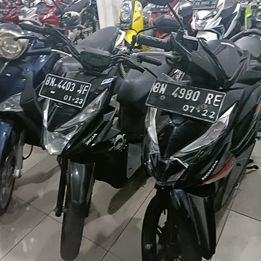plate: (40, 70, 87, 110)
